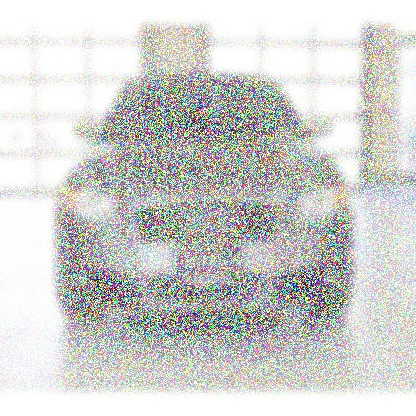Vehicle: (58, 73, 362, 338)
